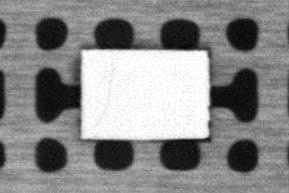DIE_CRACK: (90, 58, 113, 128)
